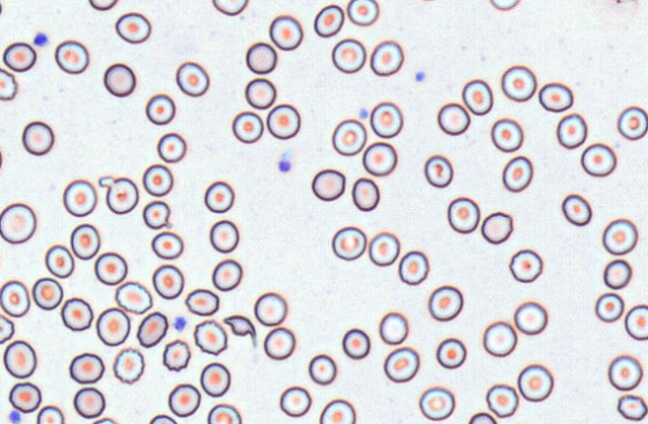PLT: (32, 32, 50, 49), (173, 315, 188, 332), (7, 409, 24, 424), (278, 159, 291, 175), (416, 69, 429, 82), (358, 107, 369, 118)
RBC: (0, 202, 36, 244), (517, 363, 553, 402), (103, 176, 139, 214), (95, 307, 130, 346), (607, 354, 643, 391), (427, 284, 463, 321), (602, 218, 638, 255), (62, 179, 97, 217), (383, 346, 419, 382), (482, 320, 517, 357), (331, 118, 366, 155), (114, 280, 152, 314), (3, 339, 36, 378), (580, 142, 616, 177), (501, 65, 536, 101), (418, 386, 455, 420), (369, 101, 403, 138), (54, 39, 89, 74), (331, 225, 366, 260), (362, 141, 397, 176), (331, 38, 366, 73), (193, 319, 227, 355), (269, 14, 303, 50), (266, 103, 300, 139), (370, 39, 403, 76), (447, 196, 480, 233), (253, 291, 287, 326), (513, 300, 547, 335), (175, 61, 209, 96), (151, 263, 184, 299), (112, 347, 144, 384), (485, 383, 518, 418), (21, 120, 54, 155), (490, 117, 523, 152), (136, 311, 168, 347), (461, 79, 493, 115), (556, 112, 587, 149), (502, 155, 533, 192), (0, 279, 30, 317), (60, 297, 93, 331), (167, 383, 200, 417), (94, 251, 127, 285), (509, 248, 542, 282), (311, 168, 345, 201), (69, 352, 104, 384), (103, 62, 135, 97), (368, 231, 400, 266), (115, 12, 151, 43), (70, 223, 100, 260), (480, 211, 513, 244), (437, 102, 470, 135), (263, 326, 295, 360), (199, 362, 230, 397), (398, 250, 429, 285), (617, 105, 648, 140), (8, 381, 41, 413), (31, 277, 63, 310), (245, 41, 277, 74), (231, 110, 263, 143), (2, 41, 36, 72), (538, 82, 573, 112), (73, 386, 105, 418), (279, 385, 311, 417), (244, 77, 276, 109), (211, 258, 242, 291), (561, 193, 592, 226), (142, 163, 173, 196), (313, 4, 344, 37), (44, 244, 74, 278), (209, 219, 239, 253), (435, 337, 466, 369), (378, 311, 408, 344), (423, 154, 453, 187), (204, 180, 234, 213), (184, 288, 219, 316), (145, 93, 175, 125), (351, 177, 379, 211), (156, 132, 186, 163), (162, 339, 191, 371), (319, 398, 355, 423), (594, 292, 624, 322), (341, 328, 370, 359), (603, 258, 632, 289), (308, 353, 336, 385), (151, 231, 183, 259), (624, 304, 648, 340), (346, 0, 379, 26), (142, 200, 170, 229), (617, 394, 647, 421), (206, 403, 241, 424), (0, 67, 17, 100), (211, 0, 248, 15), (36, 405, 64, 423), (0, 313, 14, 344), (467, 411, 497, 424), (148, 413, 177, 424), (489, 0, 520, 10), (88, 0, 118, 10), (607, 0, 638, 4), (509, 420, 539, 424), (0, 140, 3, 172), (0, 0, 3, 17), (414, 0, 448, 1)
Schistocyte: (224, 314, 257, 338)
